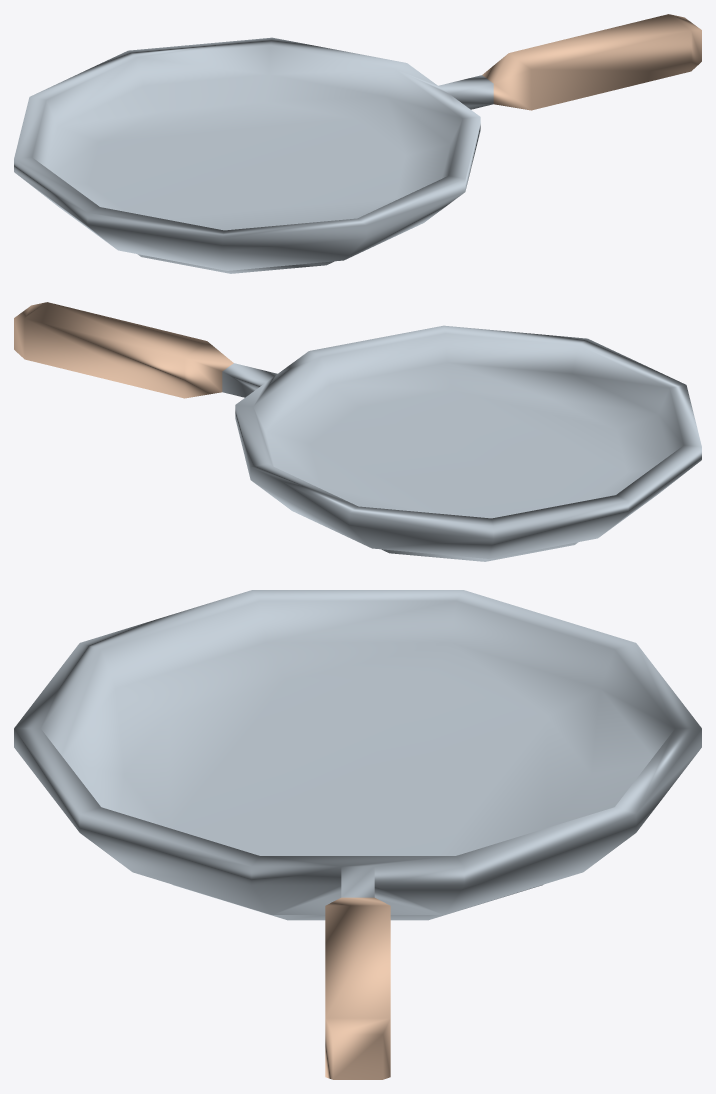
Rendered from fryingPan.glb.
3 views of the same model, one above another, from view 1: azimuth 30°, elevation 25°; view 2: azimuth 150°, elevation 25°; view 3: azimuth 270°, elevation 25° (orthographic). The views are drawn at different scales.
Parts seen in each view (by area): view 1: fryingPan; view 2: fryingPan; view 3: fryingPan.
Boxes of the visible parts, x1=… form: fryingPan: x1=14, y1=14, x2=701, y2=273; fryingPan: x1=14, y1=302, x2=701, y2=561; fryingPan: x1=14, y1=590, x2=701, y2=1079.
Size of the model in its own units: 1.02 by 0.1206 by 0.6574.
